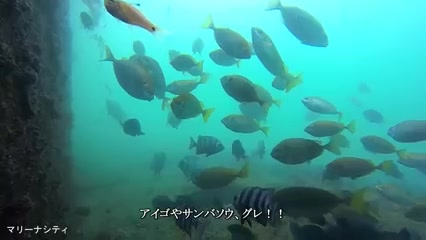azi: (248, 24, 302, 91), (188, 162, 262, 189)
ishidai: (234, 181, 280, 224)
smallfish: (317, 148, 404, 180), (266, 132, 343, 163), (294, 116, 356, 136), (299, 94, 348, 119), (221, 112, 271, 135), (185, 130, 226, 155), (169, 51, 208, 76)
